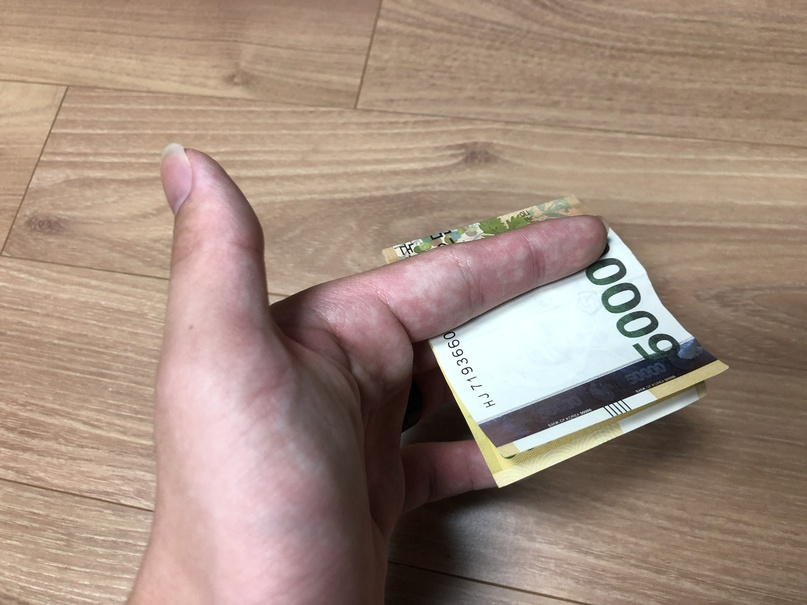50000won: (382, 195, 729, 489)
